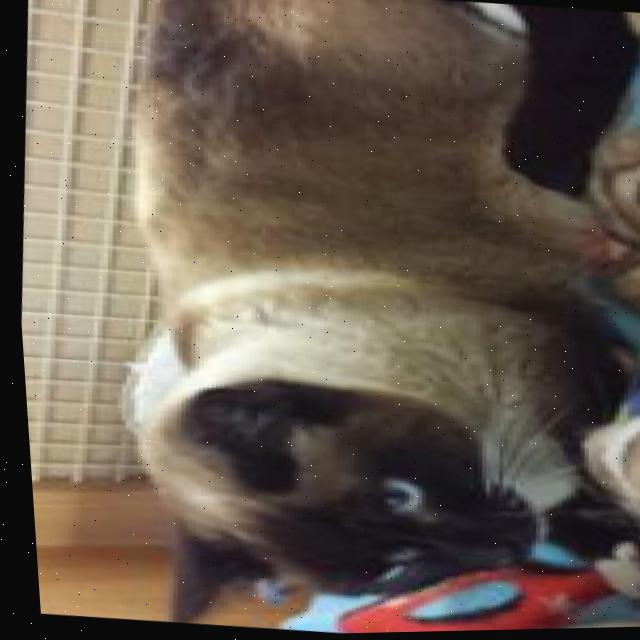Siamese: (66, 0, 640, 639)
